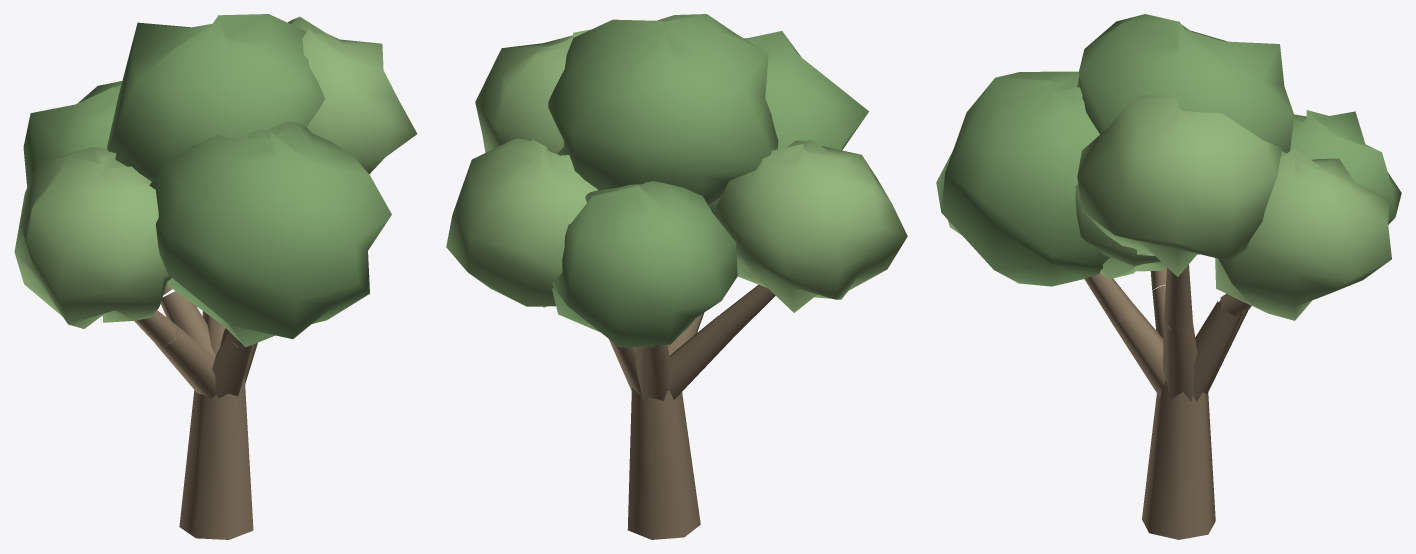
The model's file is oak.glb.
The picture shows the model from 3 angles, left to right: view 1: azimuth 30°, elevation 25°; view 2: azimuth 150°, elevation 25°; view 3: azimuth 270°, elevation 25°; orthographic projection.
Visible parts, largest first — view 1: oak; view 2: oak; view 3: oak.
Part boxes in pixels (x1=…): oak: x1=14, y1=14, x2=417, y2=539; oak: x1=446, y1=14, x2=907, y2=539; oak: x1=936, y1=14, x2=1401, y2=539.
Bounding box in the file's own units: 39.58 × 49.86 × 41.72.
